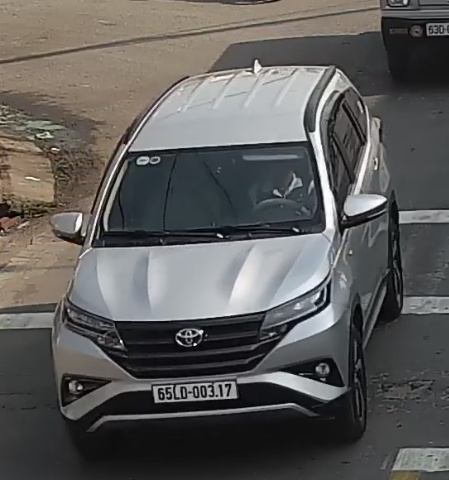vehicle plate: (147, 377, 253, 407)
